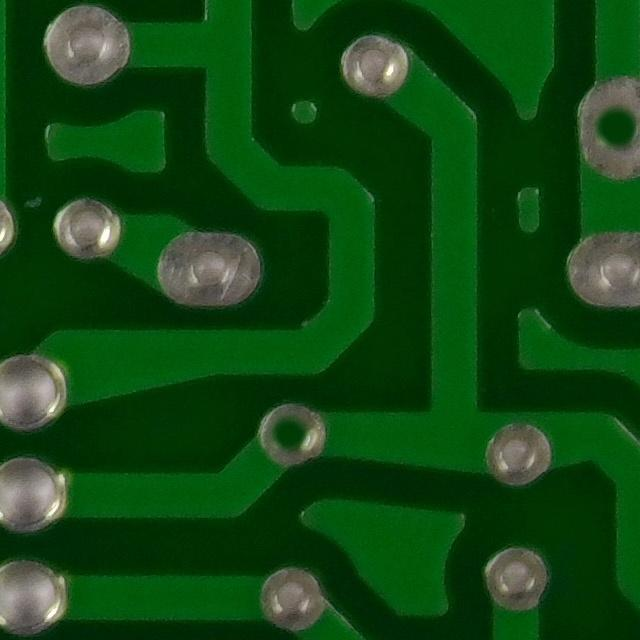missing_hole: (579, 84, 640, 178), (260, 400, 327, 467)
